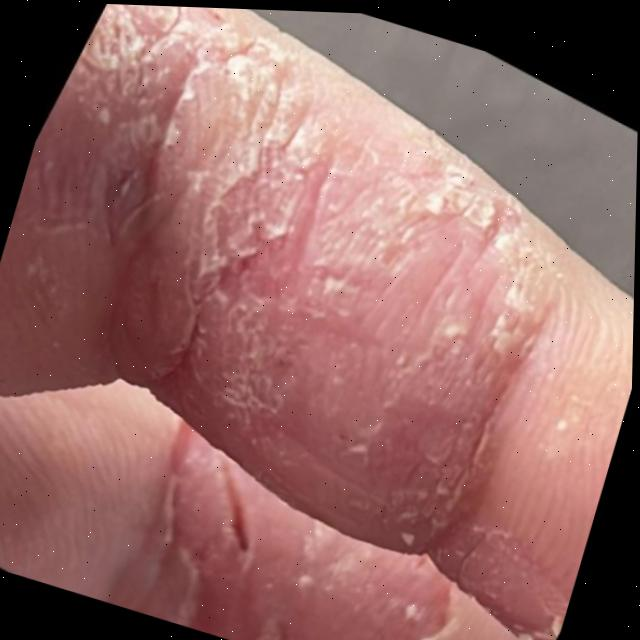Eczema: (90, 101, 539, 536), (193, 531, 403, 640)
